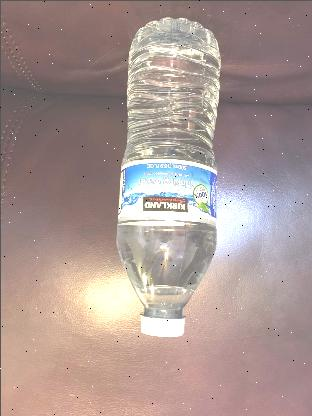Plastic Bottle: (114, 19, 219, 337)
